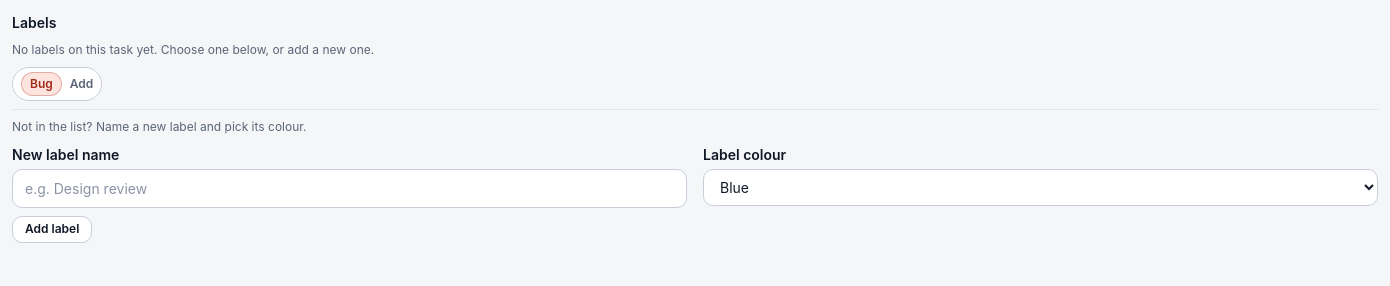
Test: LabelPicker › reports a duplicate name from the server inline and selects nothing
This screenshot has width=1390, height=286.
Check: the button with aria-label "Bug label" is shown, box [12,67,102,101]
Type "Design" into the field labelled "New label name" at (350, 188), box [12,169,687,208]
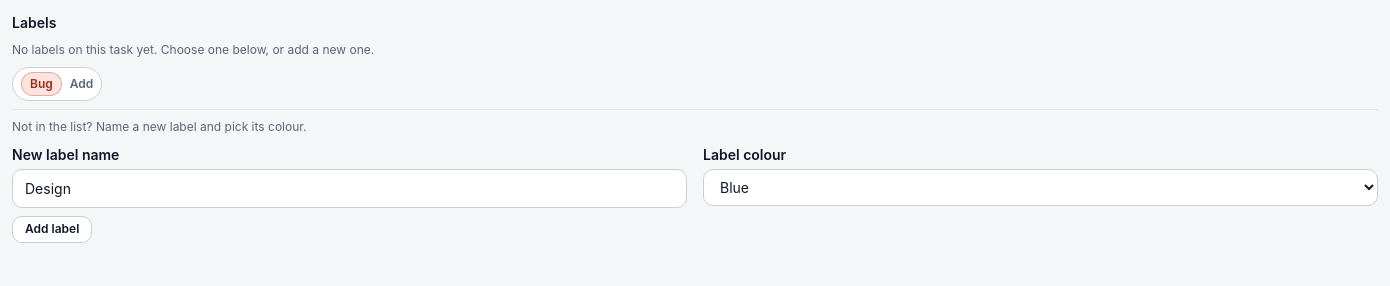
Click the button "Add label" at (52, 229), box [12,216,92,243]
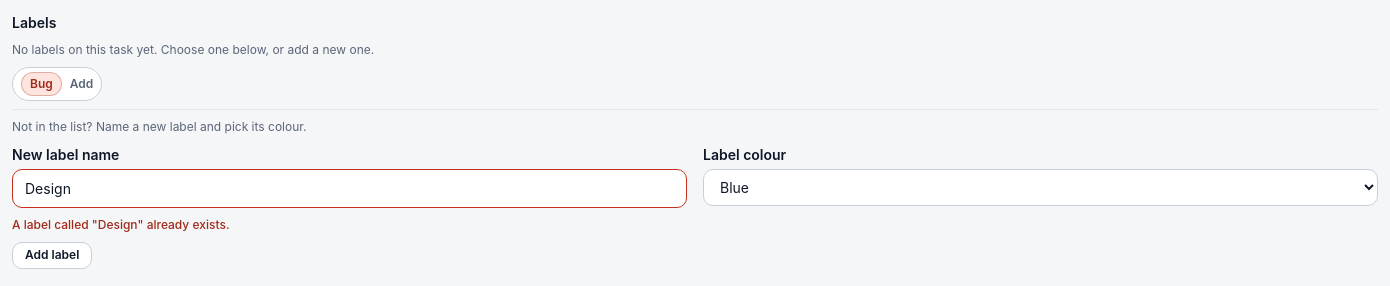
Check: the text "A label called \"Design\" already exists." is shown, box [12,217,230,232]
